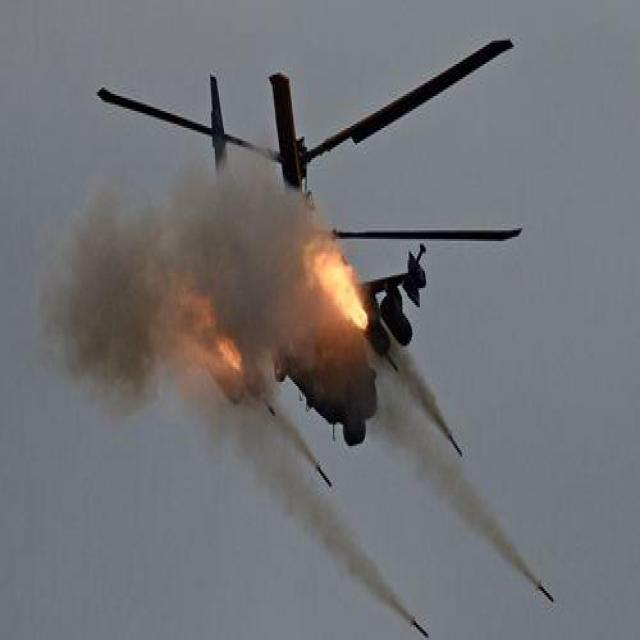MIL_HELO: (82, 9, 529, 460)
